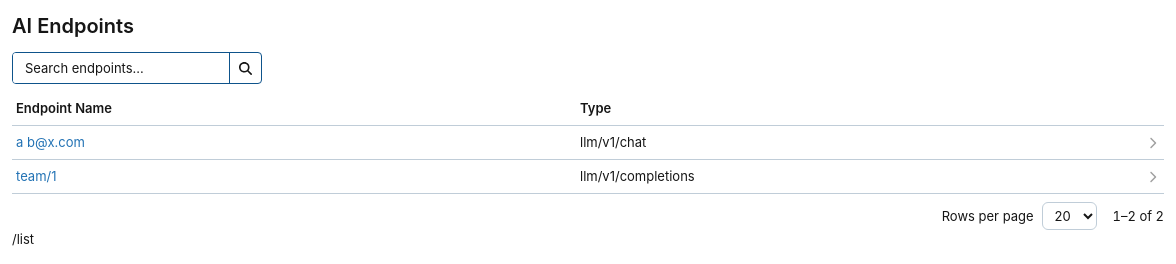
Test: AiEndpointsPage › row navigation › navigates to the same destination when the row is clicked
Check: the row "team/1" is shown, box [12, 160, 1164, 194]
Click the cell "llm/v1/completions" at (637, 176), box [580, 168, 695, 184]
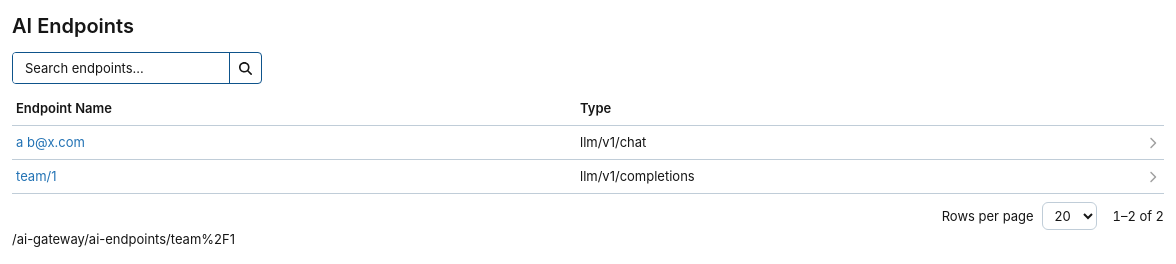
Check: the text with test id "location" reads "/ai-gateway/ai-endpoints/team%2F1", box [12, 231, 235, 247]
